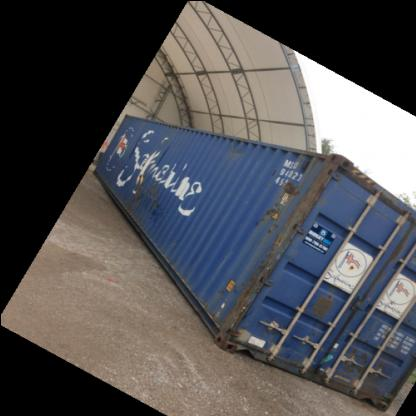Damage: (223, 262, 269, 339), (338, 352, 386, 392), (121, 171, 162, 210), (306, 286, 338, 324), (251, 199, 283, 235), (124, 130, 147, 158), (221, 140, 252, 158), (278, 176, 306, 192)
